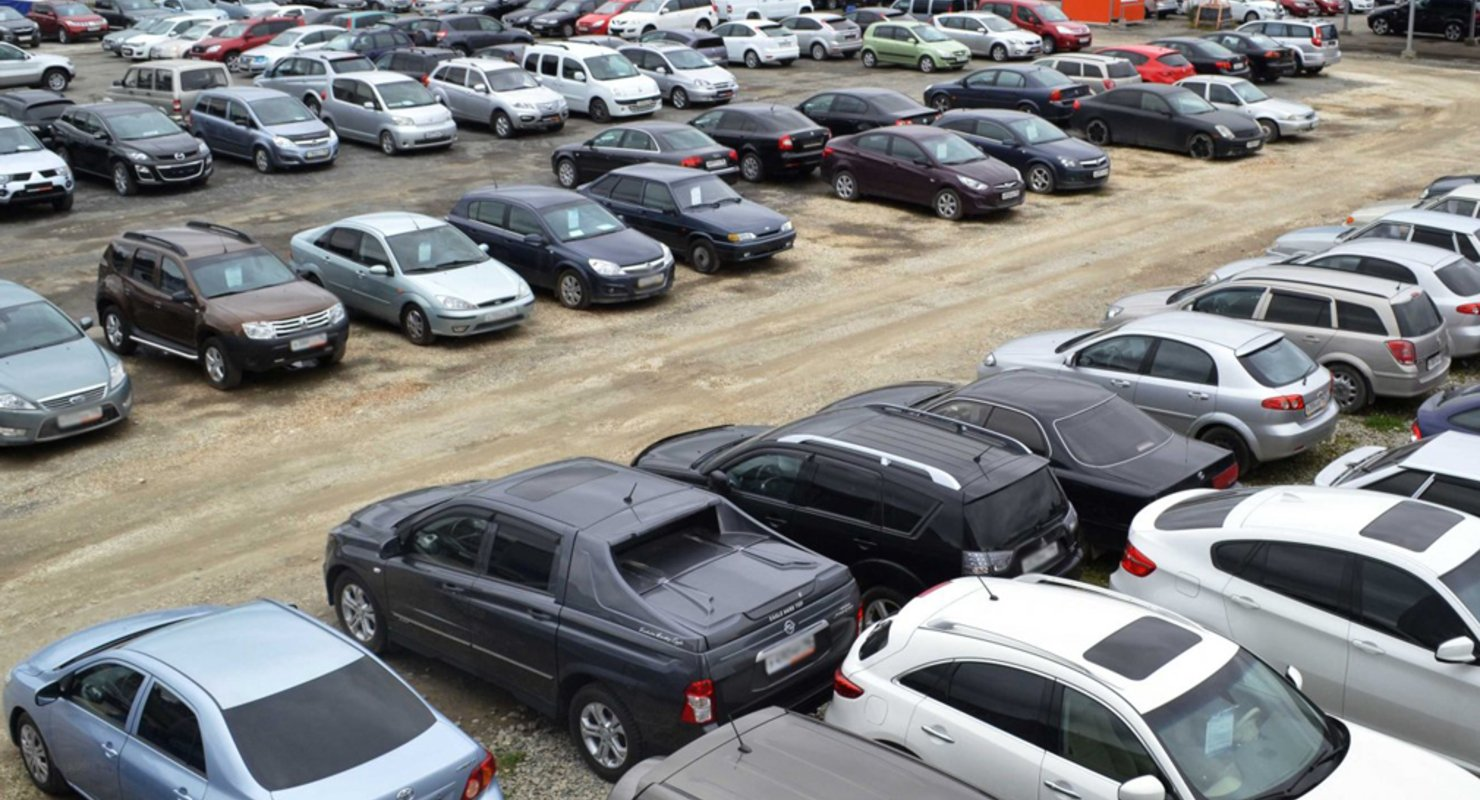Car: (322, 458, 858, 781), (823, 579, 1480, 800), (1109, 485, 1480, 761), (633, 403, 1083, 627), (4, 600, 503, 800), (825, 371, 1239, 555), (980, 311, 1339, 465), (1104, 265, 1454, 412), (94, 220, 350, 390), (609, 710, 999, 800), (289, 212, 534, 344), (1206, 241, 1480, 358), (447, 185, 676, 309), (576, 164, 796, 274), (0, 278, 134, 448), (821, 125, 1026, 221), (50, 102, 214, 196), (933, 109, 1111, 194), (1076, 84, 1266, 160), (1314, 432, 1480, 517), (189, 86, 338, 173), (551, 122, 738, 187), (1269, 209, 1480, 264), (320, 71, 457, 155), (426, 58, 568, 139), (519, 42, 662, 122), (691, 103, 832, 182), (924, 65, 1090, 124), (1178, 76, 1319, 142), (105, 60, 234, 124), (617, 43, 738, 109), (254, 50, 375, 113), (0, 116, 76, 212), (797, 87, 937, 136), (188, 16, 304, 70), (1344, 183, 1480, 228), (859, 20, 971, 74), (979, 0, 1092, 53), (928, 11, 1044, 62), (1236, 19, 1341, 74), (236, 25, 344, 77), (1203, 30, 1298, 81), (414, 14, 533, 54), (1367, 0, 1480, 41), (120, 14, 216, 61), (608, 0, 719, 40), (1036, 52, 1143, 93), (1092, 42, 1196, 83), (0, 89, 74, 145), (715, 20, 800, 68), (1410, 382, 1480, 440), (1152, 37, 1252, 77), (0, 42, 76, 92), (783, 13, 861, 60), (150, 19, 234, 60), (29, 0, 109, 43), (101, 12, 181, 55), (372, 48, 464, 84), (643, 29, 729, 65), (324, 28, 415, 62), (532, 0, 603, 37), (576, 0, 639, 35), (714, 0, 814, 22), (91, 0, 164, 30), (891, 0, 979, 22), (845, 7, 914, 34), (502, 0, 565, 29), (1418, 173, 1480, 202), (0, 5, 40, 46), (329, 11, 399, 31), (158, 0, 230, 19), (1227, 0, 1284, 22), (474, 43, 529, 65), (215, 0, 278, 19), (460, 0, 528, 17), (375, 17, 421, 42), (568, 35, 625, 49), (291, 0, 369, 10), (301, 9, 348, 24), (1279, 0, 1318, 18), (1145, 0, 1179, 20), (420, 0, 464, 15), (263, 5, 317, 16), (365, 0, 412, 12), (843, 0, 890, 11), (1314, 0, 1346, 15), (1346, 0, 1376, 13), (812, 0, 843, 10), (415, 0, 445, 9)
